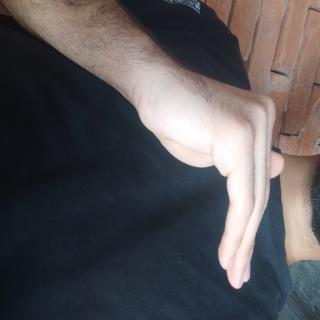KHAA: (35, 37, 221, 254)
